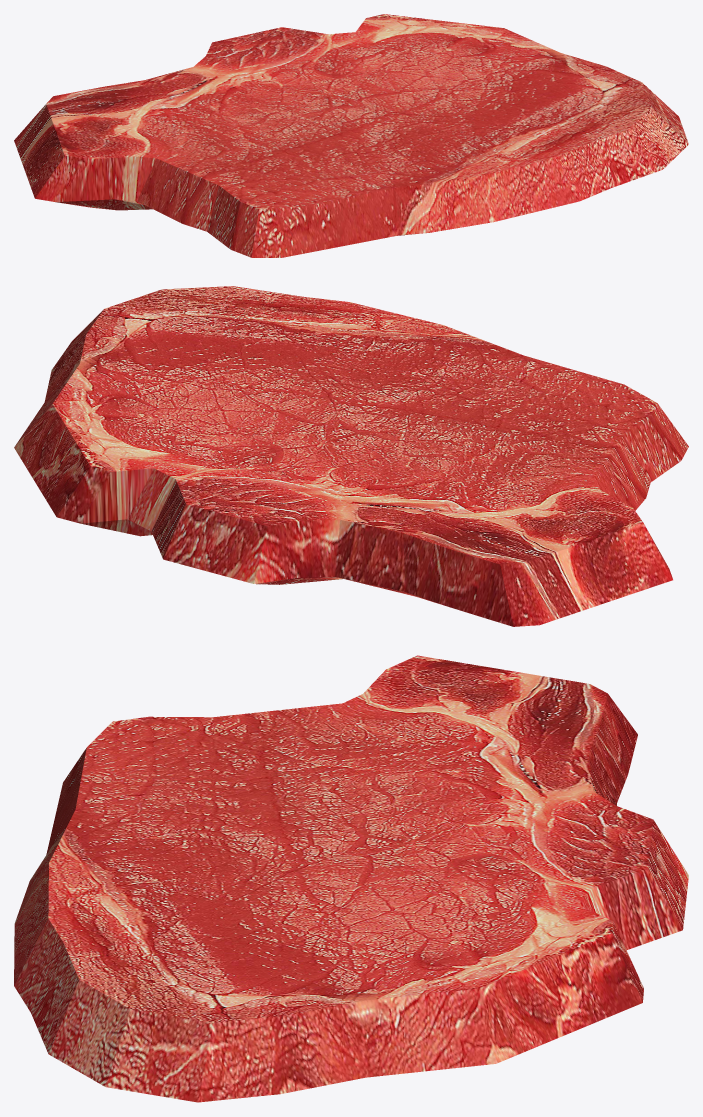
File: Meat.obj
3 renders of one model, top to bottom at view 1: azimuth 30°, elevation 25°; view 2: azimuth 150°, elevation 25°; view 3: azimuth 270°, elevation 25°, orthographic. The views are drawn at different scales.
Parts seen in each view (by area): view 1: Meat; view 2: Meat; view 3: Meat.
Boxes of the visible parts, x1,y1,x2,y2 form: Meat: [14, 14, 688, 257]; Meat: [14, 286, 688, 626]; Meat: [14, 655, 688, 1102].
Size of the model in its own units: 100 by 9.39 by 69.54.
